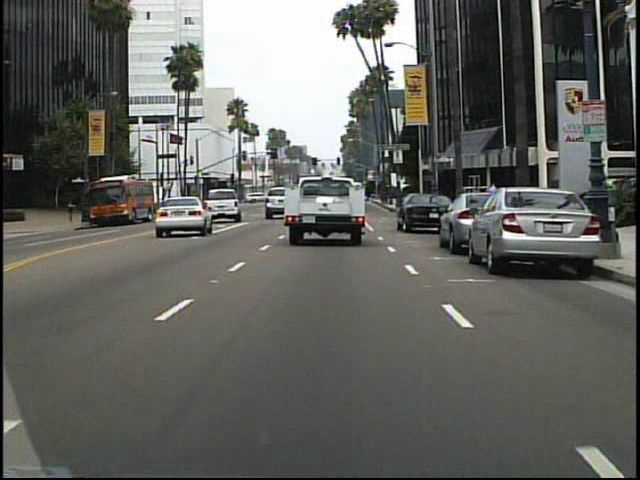person: (486, 179, 503, 222), (65, 193, 80, 227)
